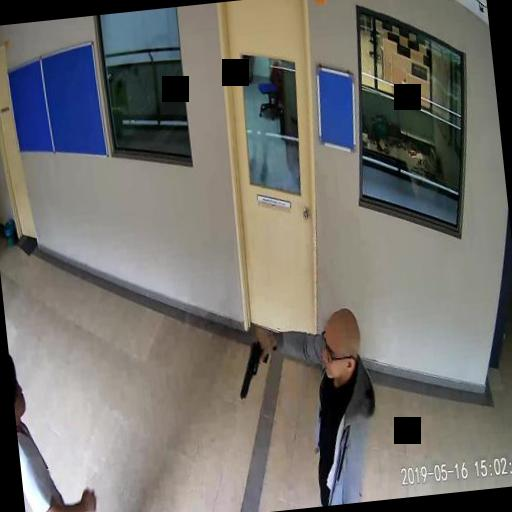Handgun: (234, 334, 272, 396)
